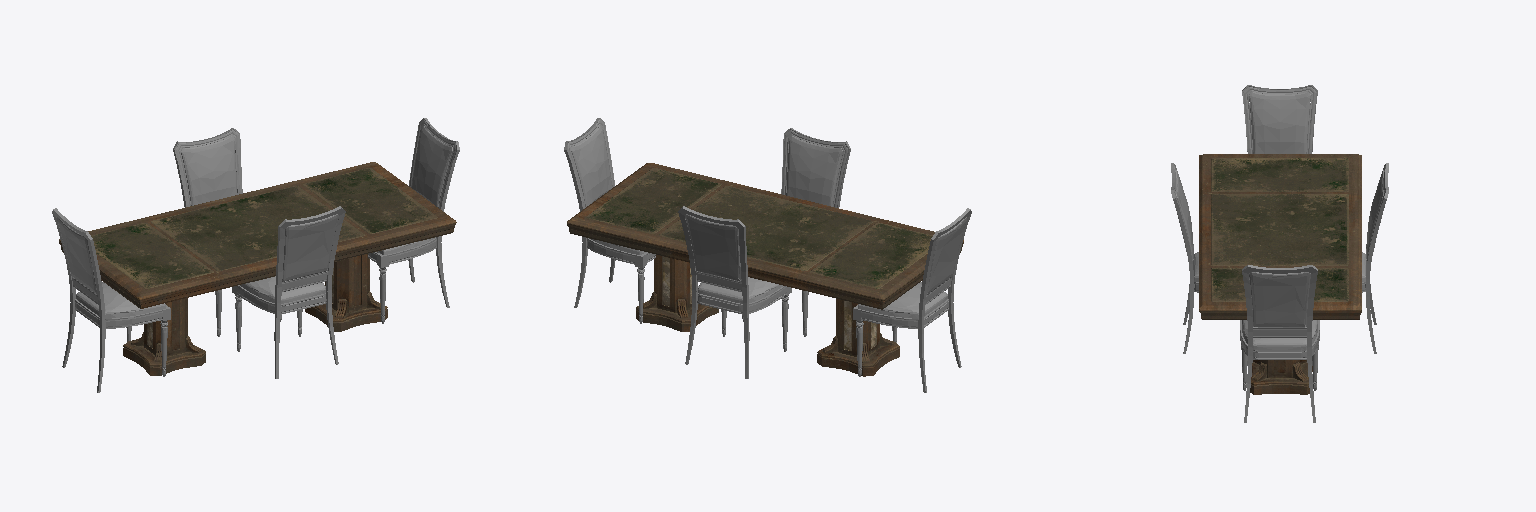
The picture shows the model from 3 angles: view 1: azimuth 30°, elevation 25°; view 2: azimuth 150°, elevation 25°; view 3: azimuth 270°, elevation 25°; orthographic projection.
Parts seen in each view (by area): view 1: SM_Table_03_Combo; view 2: SM_Table_03_Combo; view 3: SM_Table_03_Combo.
Boxes of the visible parts, x1=… form: SM_Table_03_Combo: x1=52, y1=118, x2=459, y2=392; SM_Table_03_Combo: x1=564, y1=118, x2=971, y2=392; SM_Table_03_Combo: x1=1171, y1=85, x2=1388, y2=422.
Bounding box in the file's own units: 313 × 130 × 159.
Materials: 2 (1 with a texture image).